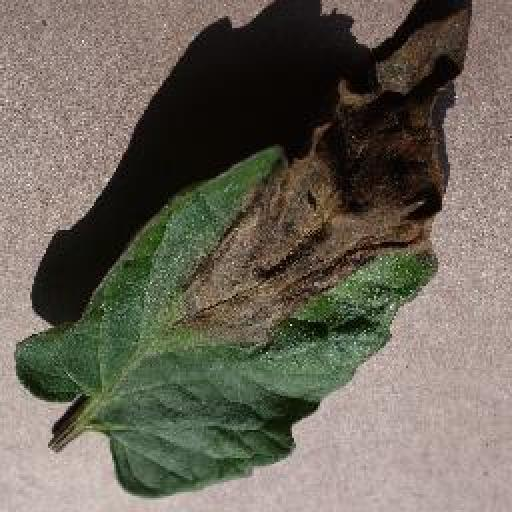Late Blight: (13, 0, 472, 492)
